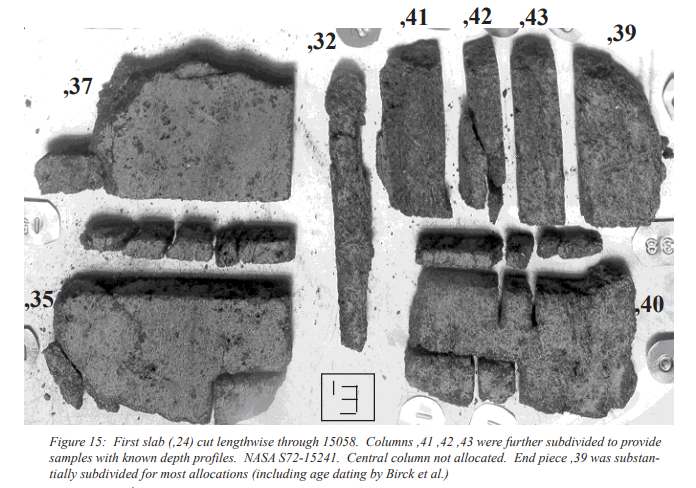Basalt: (375, 48, 658, 223), (437, 220, 621, 395), (56, 279, 276, 414), (51, 81, 291, 202), (328, 60, 380, 347)
